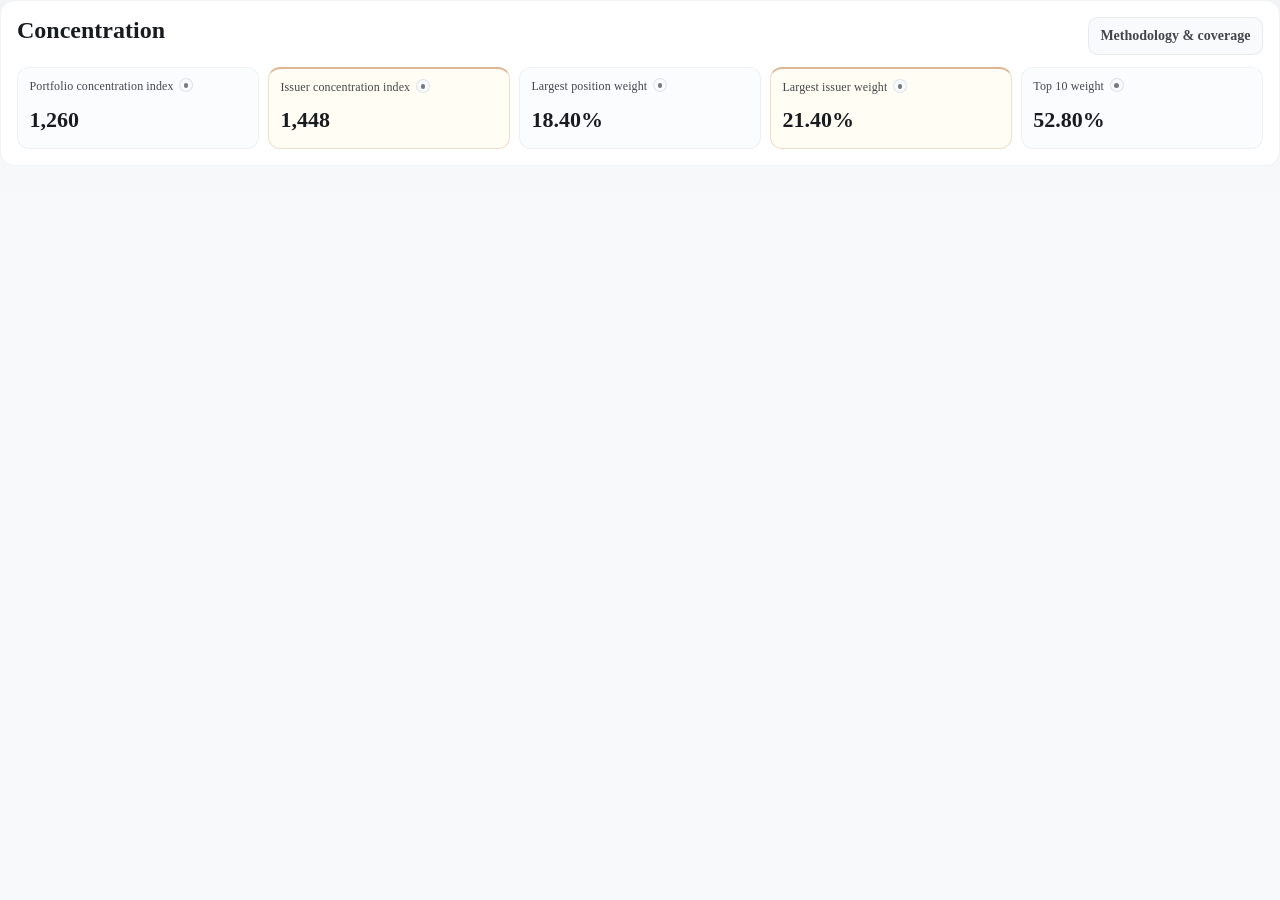
Test case: RiskConcentrationPanel › keeps concentration methodology behind the on-demand panel
Click the button with aria-label "Concentration methodology and coverage" at (1175, 36), box top-left (1088, 17), bottom-right (1263, 55)
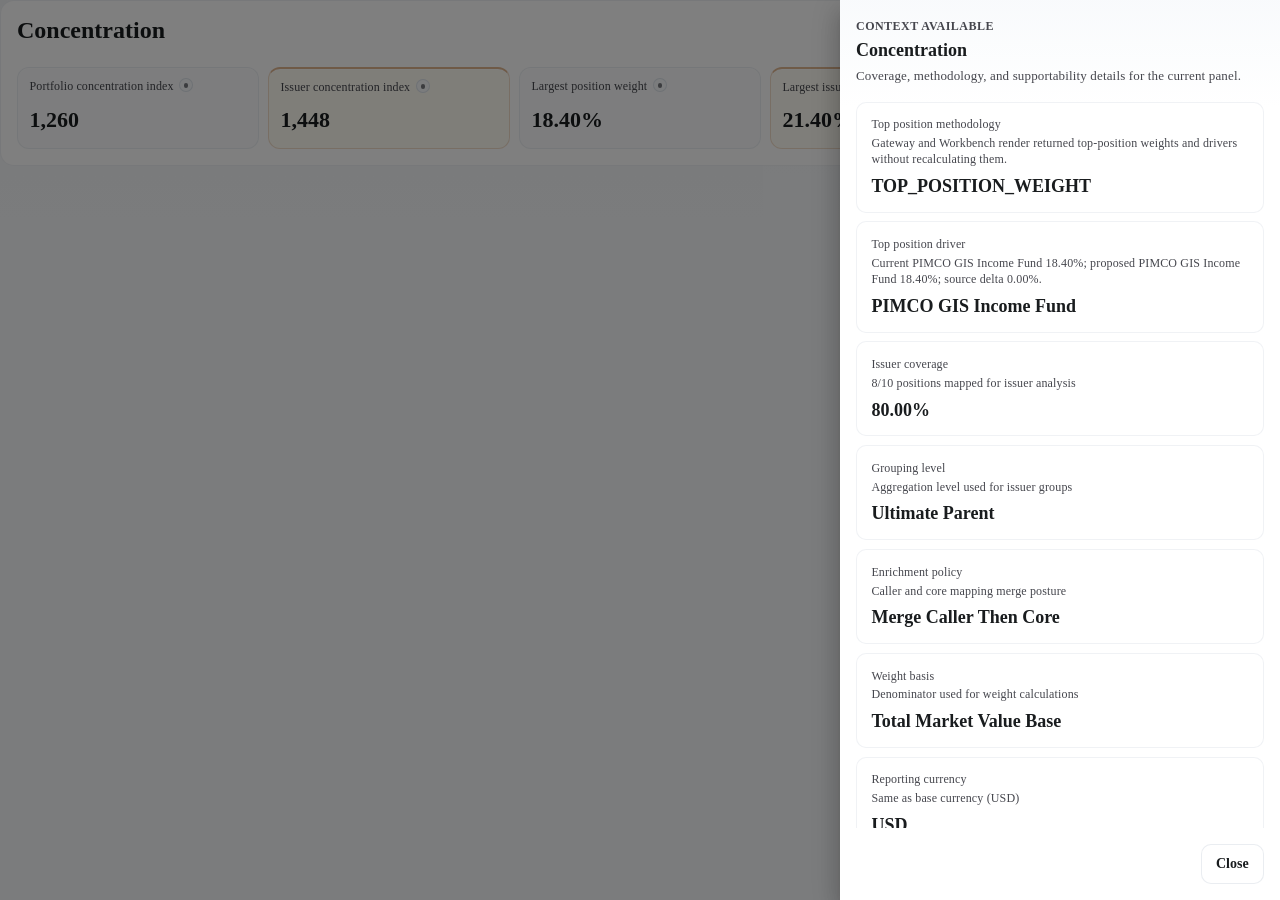
expect the text "Top position methodology" is shown: met, box top-left (871, 117), bottom-right (1001, 131)
expect the heading "TOP_POSITION_WEIGHT" is shown: met, box top-left (871, 176), bottom-right (1091, 196)
expect the text "Top position driver" is shown: met, box top-left (871, 237), bottom-right (966, 251)
